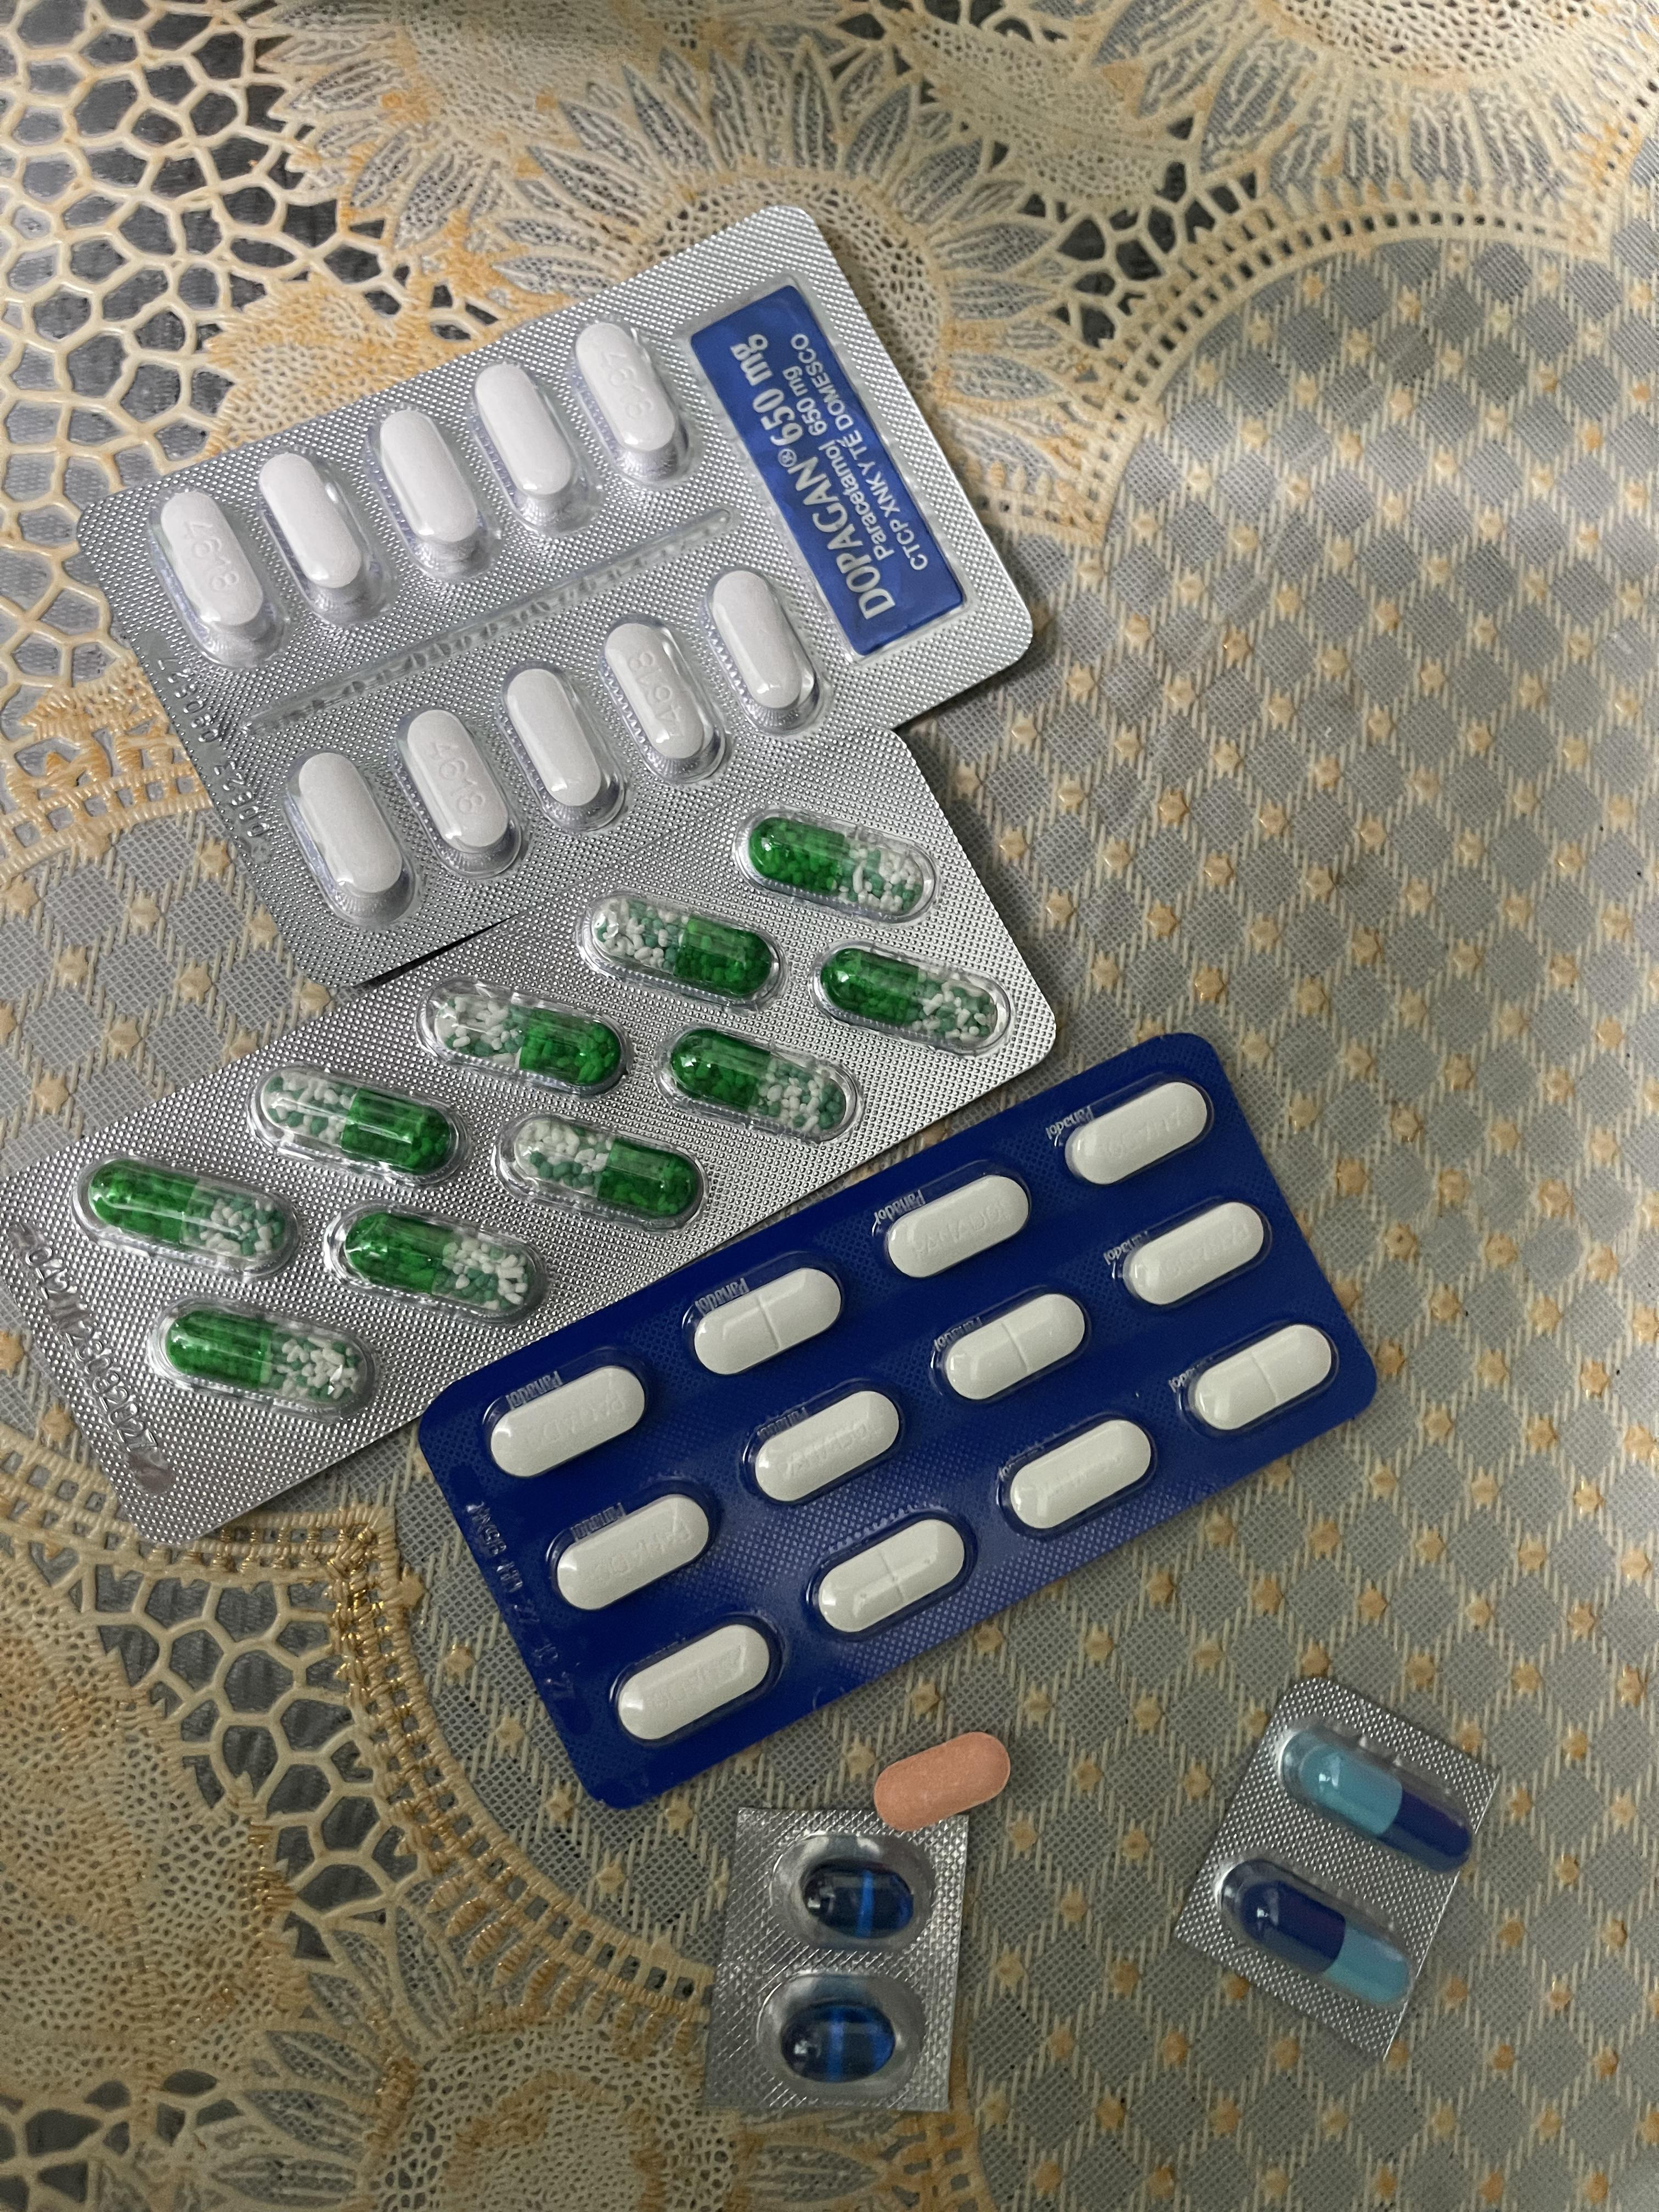Lincomyxin_500mg: (781, 2000, 899, 2081), (796, 1862, 913, 1939)
Loratadine_10mg: (871, 1731, 1012, 1834)
Paracetamol_350mg: (810, 1514, 972, 1637), (549, 1493, 713, 1615), (613, 1623, 779, 1743), (486, 1362, 650, 1480), (748, 1386, 904, 1508), (1000, 1416, 1154, 1536), (688, 1264, 840, 1376), (1187, 1322, 1335, 1435), (934, 1292, 1082, 1404), (882, 1170, 1032, 1278), (1121, 1200, 1267, 1306), (1063, 1078, 1208, 1183)
Paracetamol_500mg: (286, 747, 416, 921), (472, 361, 591, 535), (396, 707, 521, 871), (157, 491, 277, 662), (258, 456, 376, 627), (603, 618, 723, 779), (375, 411, 488, 578), (502, 667, 619, 829), (575, 319, 688, 484), (711, 568, 809, 707)
Paracetamol_650mg: (77, 1151, 291, 1264), (256, 1059, 462, 1169), (329, 1204, 540, 1310), (422, 974, 626, 1083), (509, 1106, 711, 1212), (587, 894, 775, 996), (162, 1312, 357, 1404), (669, 1036, 838, 1127), (824, 951, 993, 1036), (753, 819, 920, 904)
pill: (1284, 1728, 1471, 1871), (1230, 1864, 1410, 2006)
